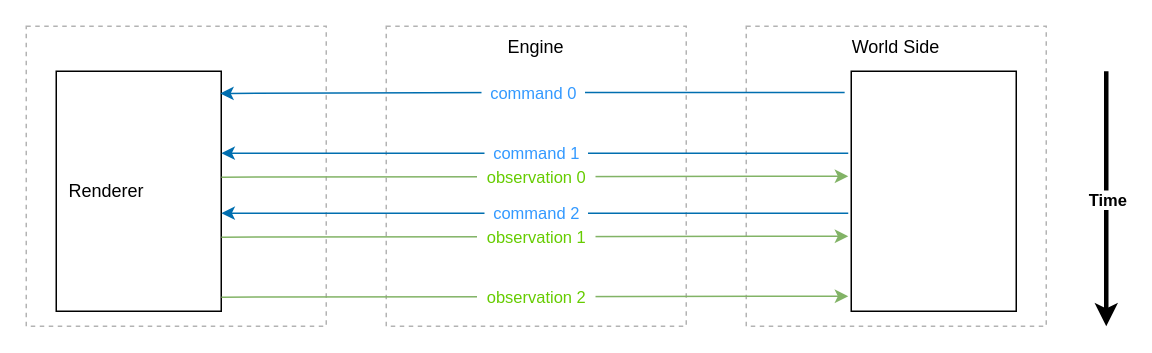
Some shapes in this 1152 by 353 pixel diagram are drawn without their labels. The box of each missing label's shape, as (x1, y1, x2, y2) in pixels:
Agent: (850, 70, 1016, 311)
Matrix Side: (25, 25, 326, 326)
